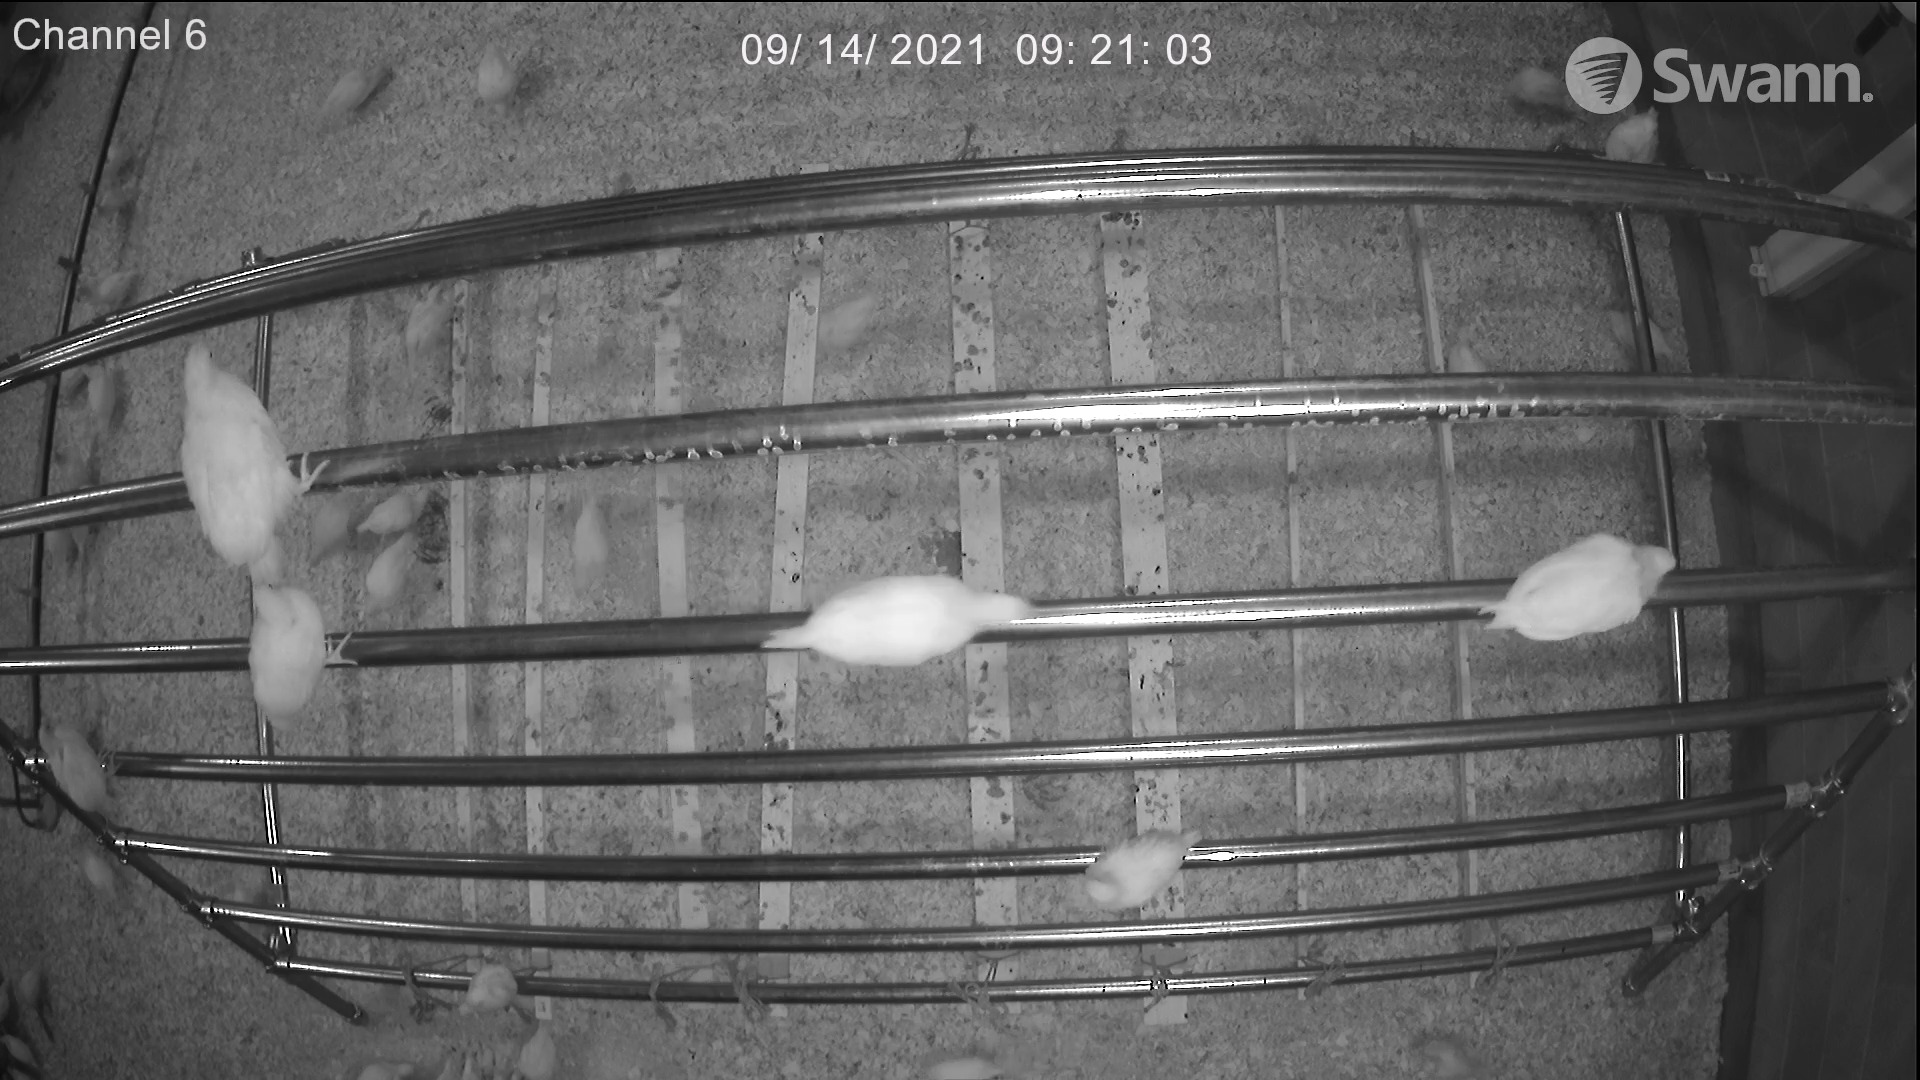Perching: (141, 339, 331, 578), (748, 575, 1042, 679), (1480, 520, 1687, 646), (208, 584, 363, 727), (12, 700, 131, 825), (1062, 824, 1213, 910), (443, 960, 527, 1022)
